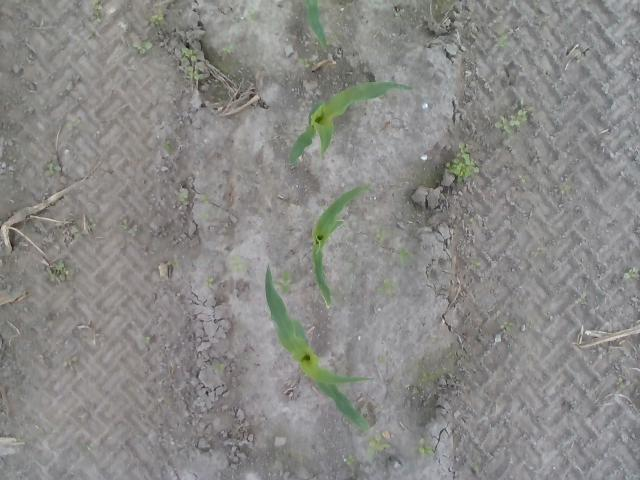Maize: (263, 262, 373, 431), (289, 82, 413, 164), (312, 186, 370, 306), (301, 2, 328, 48)
Weeds: (442, 138, 477, 182), (495, 107, 528, 134), (180, 46, 200, 80), (368, 432, 393, 456), (48, 260, 70, 284), (131, 38, 154, 56), (376, 277, 399, 295), (399, 247, 416, 267), (278, 272, 292, 294), (45, 160, 62, 176), (622, 266, 640, 281), (231, 255, 244, 273), (416, 444, 434, 457), (497, 30, 509, 48), (149, 12, 163, 26), (342, 455, 358, 465), (222, 44, 238, 54), (421, 370, 434, 382), (500, 320, 513, 332), (202, 276, 215, 288), (214, 362, 224, 376), (90, 0, 103, 10), (374, 231, 384, 241), (178, 192, 188, 202), (144, 337, 150, 344)
